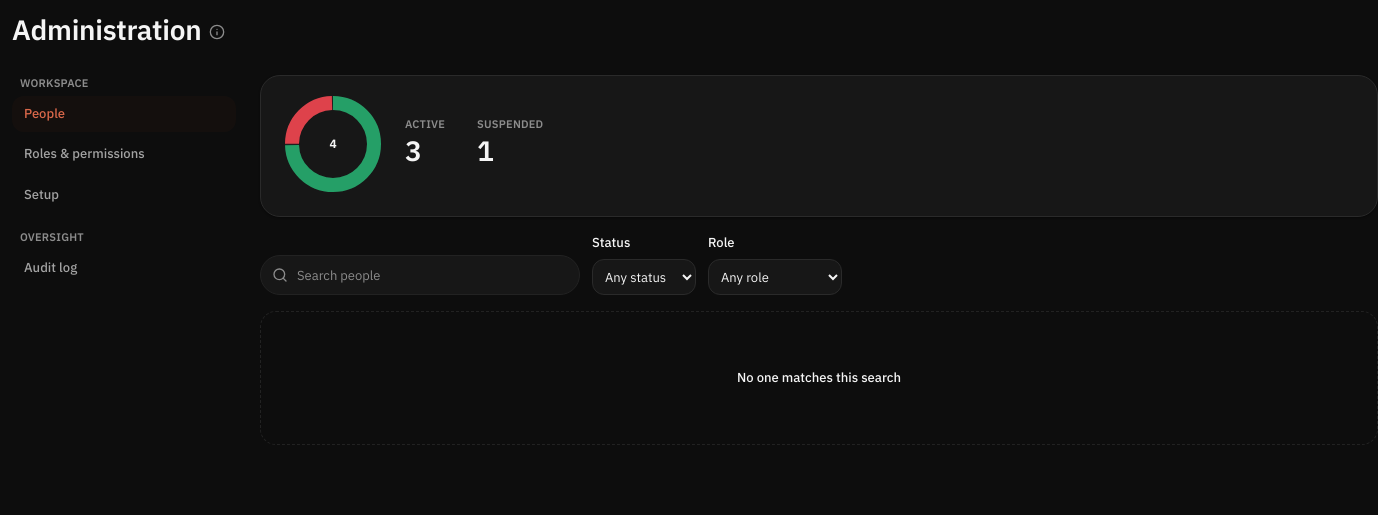
Test case: AdministrationPage › says an empty directory is the filters’ doing, when it is
This screenshot has width=1378, height=515.
Expected: the text "Clearing them shows everyone" is not shown
Select "Suspended" in the dropdown labelled "Status" at (644, 277), box [592,259,696,295]
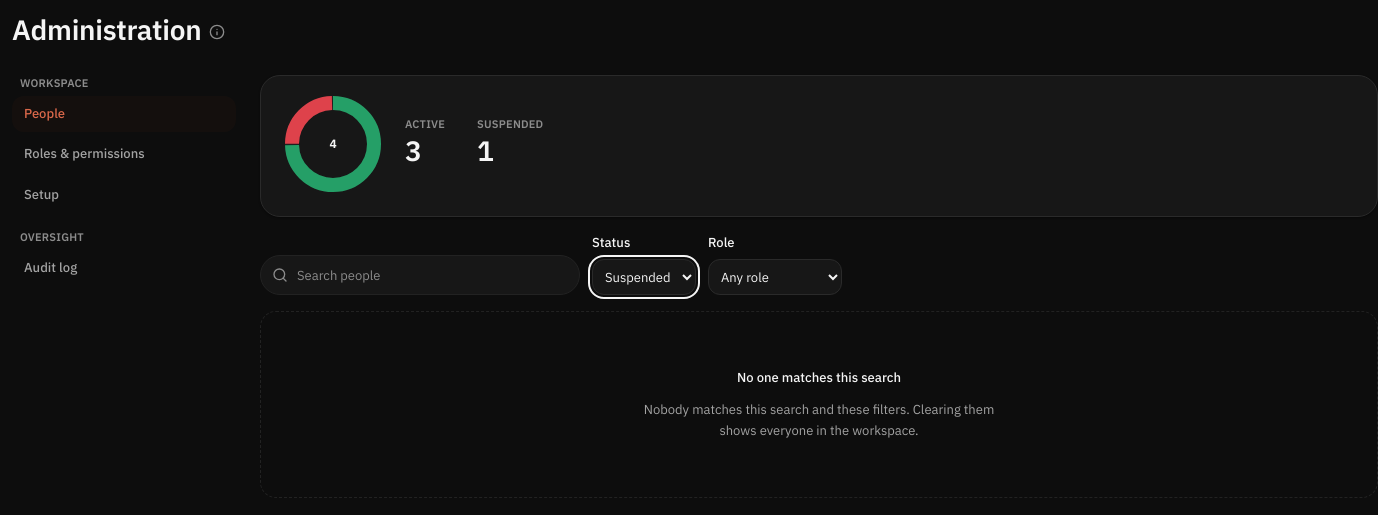
Now the text "Clearing them shows everyone" is shown, box [644,400,994,440]
